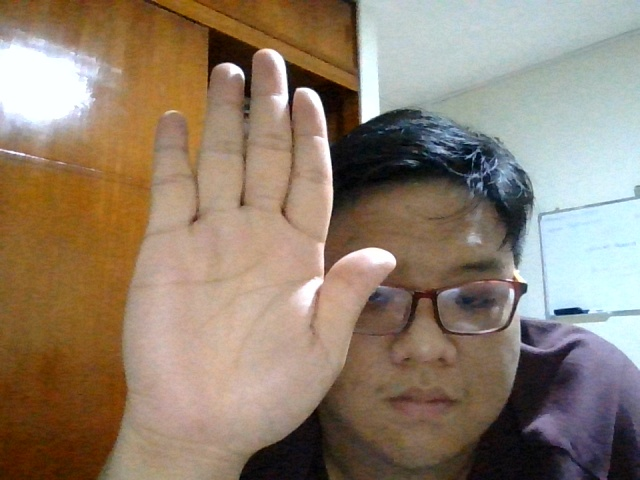hola: (112, 45, 400, 451)
